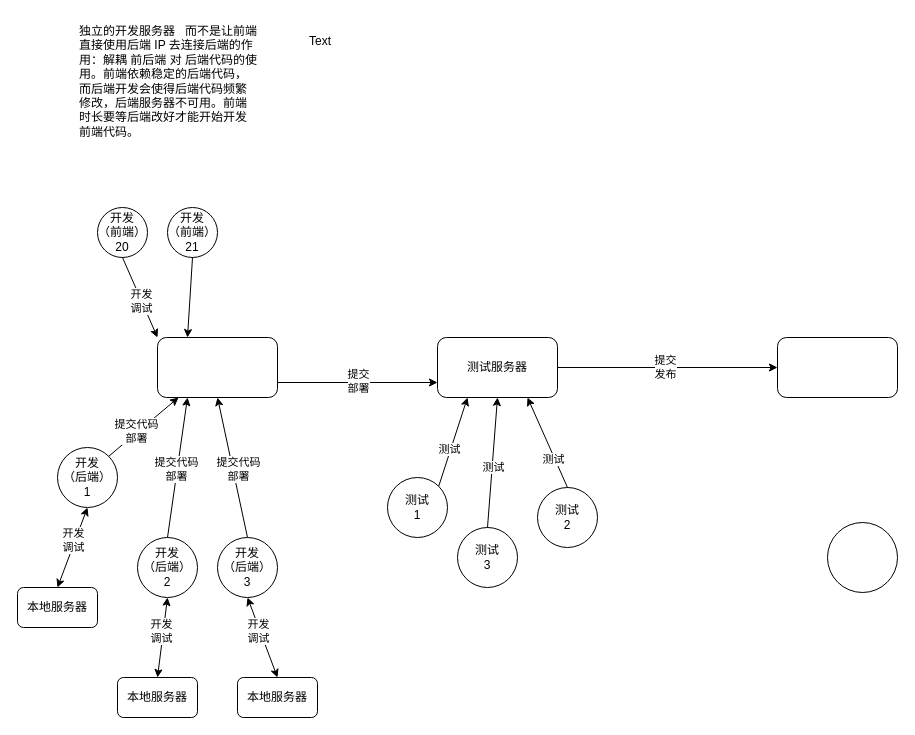
This 915x735 diagram has some shape labels left out. Each missing label, with the box of its shape:
开发服务器: (156, 336, 278, 398)
正式服务器: (776, 336, 898, 398)
